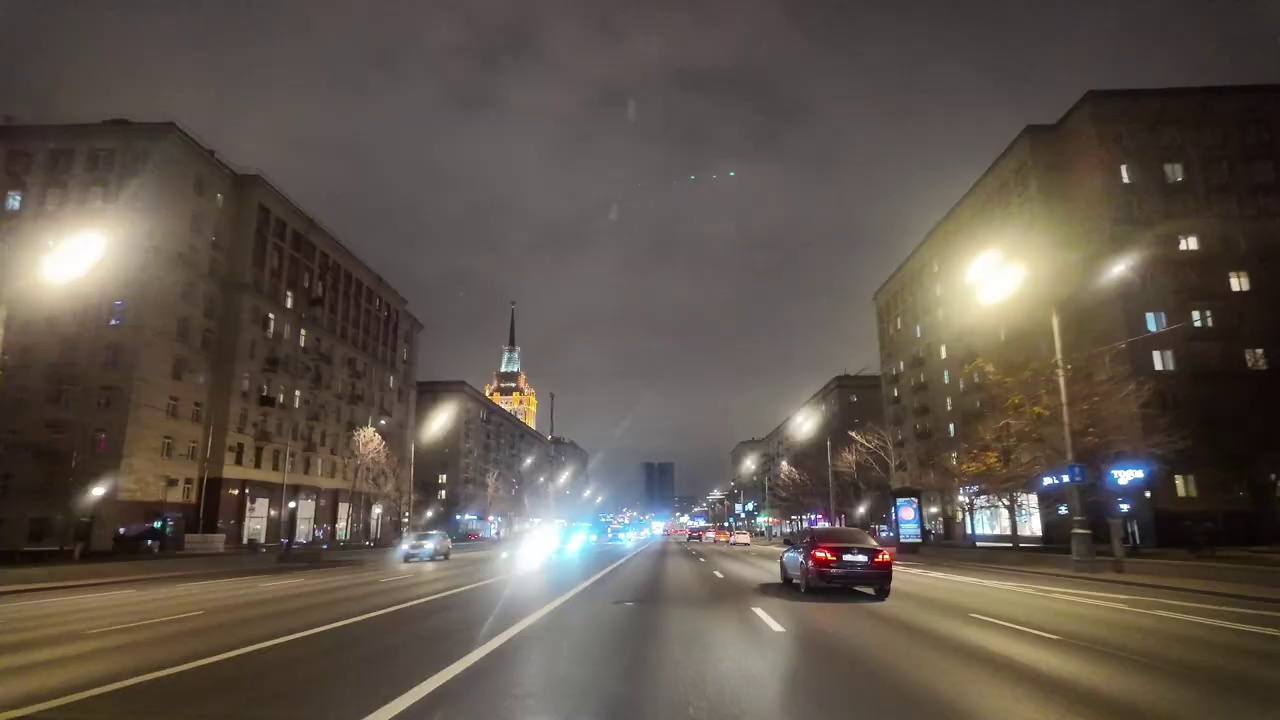acesa: (37, 228, 117, 293), (962, 247, 1035, 313), (1093, 248, 1143, 295), (417, 400, 461, 445), (786, 402, 822, 443)
